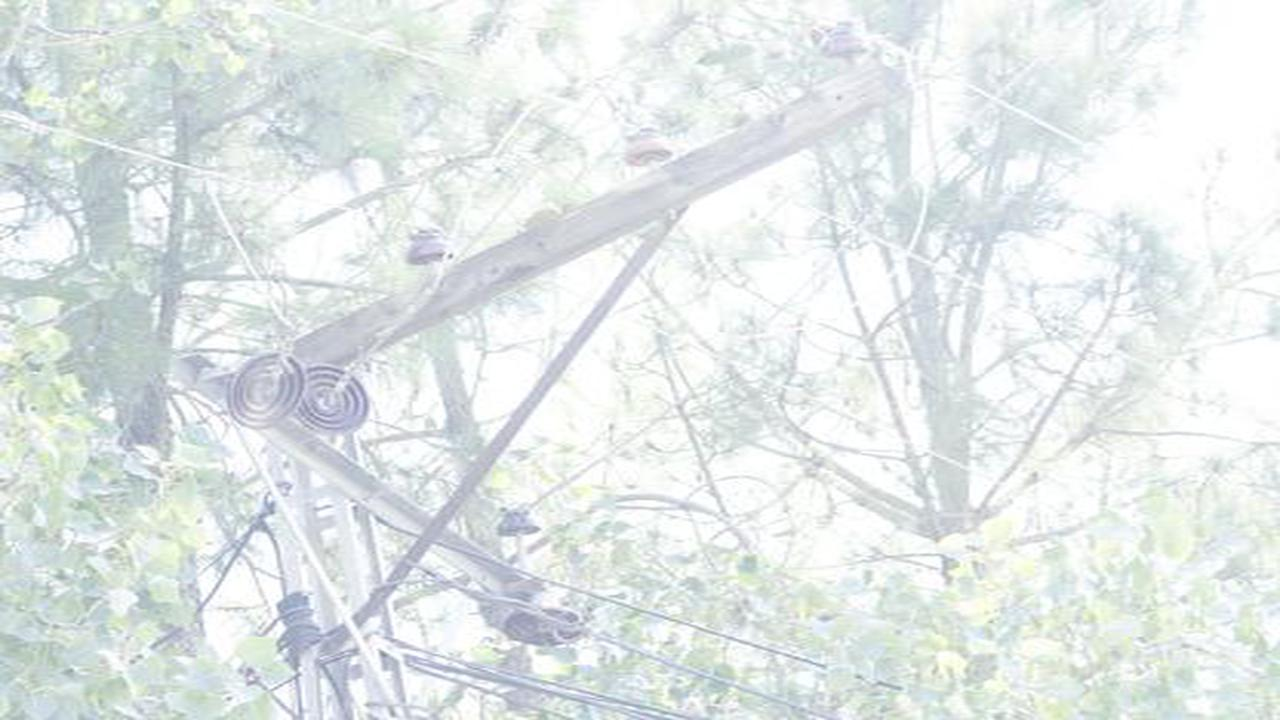insulator_disc: (228, 350, 303, 428), (308, 366, 370, 427)
insulator_pin: (813, 11, 870, 61), (620, 122, 676, 169), (491, 500, 545, 544), (401, 225, 449, 264)
